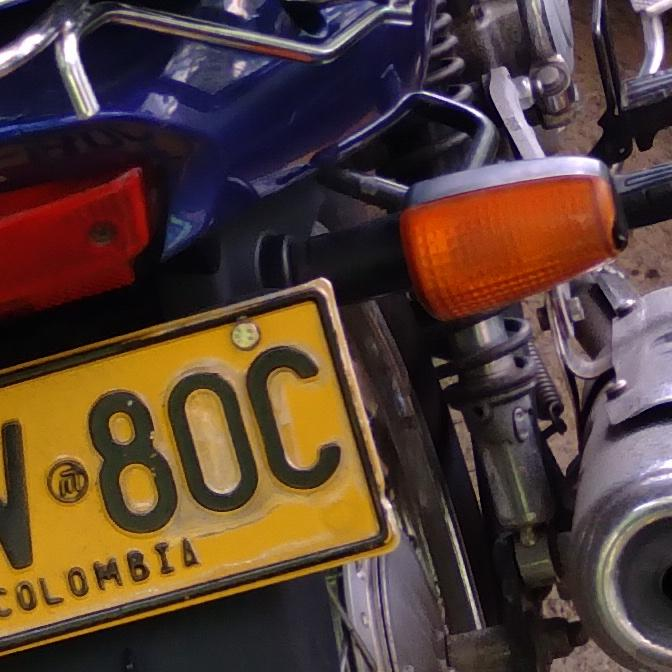plates: (0, 279, 403, 658)
